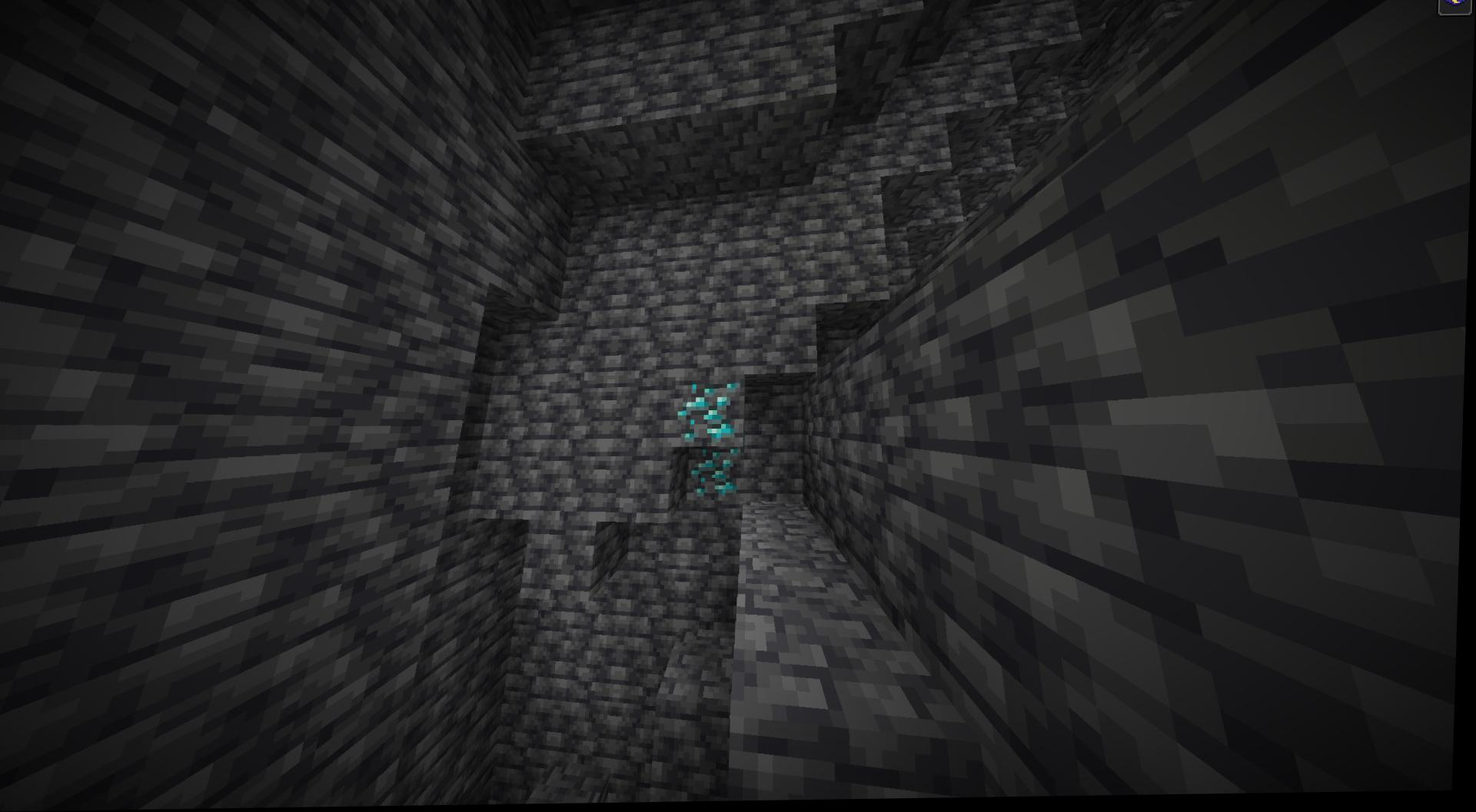diamond ore: (675, 381, 748, 453), (687, 448, 744, 503)
